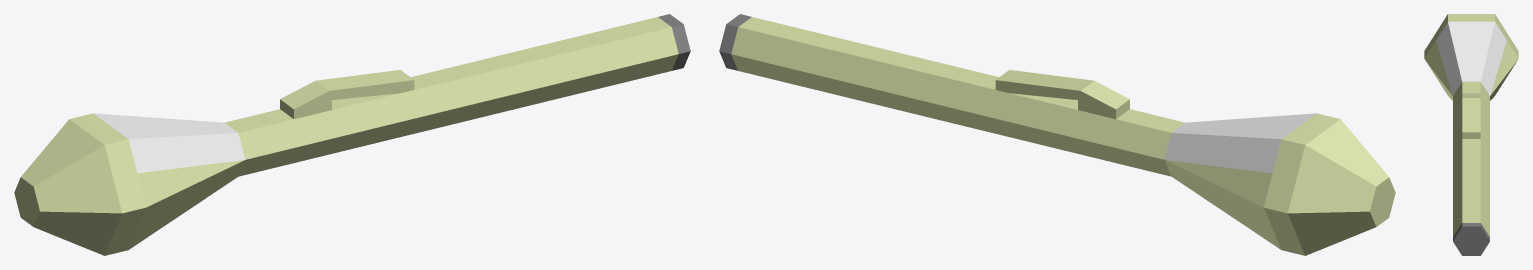
Rendered from Panzerfaust.fbx.
3 views of the same model, side by side, from view 1: azimuth 30°, elevation 25°; view 2: azimuth 150°, elevation 25°; view 3: azimuth 270°, elevation 25° (orthographic). The views are drawn at different scales.
Parts seen in each view (by area): view 1: Panzerfaust; view 2: Panzerfaust; view 3: Panzerfaust.
Boxes of the visible parts, left/top/right/bottom form: Panzerfaust: left=14, top=14, right=690, bottom=255; Panzerfaust: left=719, top=14, right=1395, bottom=255; Panzerfaust: left=1424, top=14, right=1518, bottom=255.
Size of the model in its own units: 0.8555 by 0.1397 by 0.1613.
